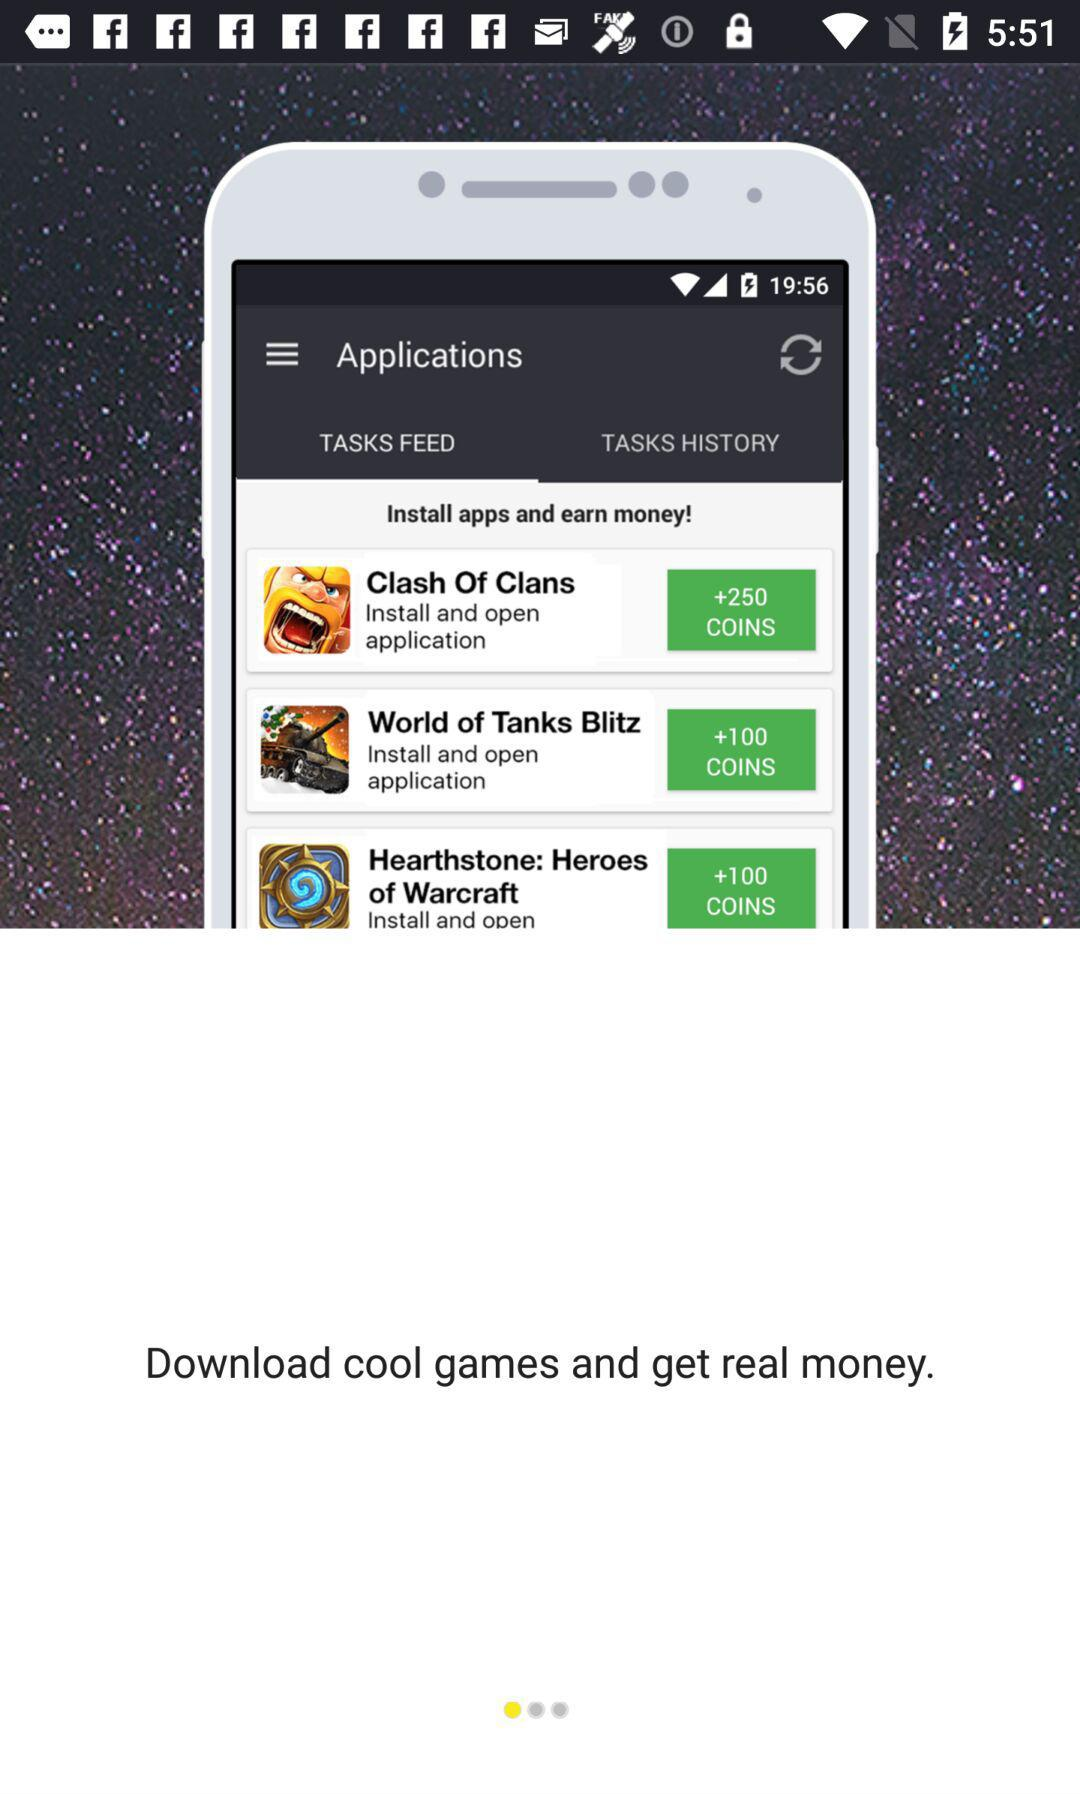Image: (1, 64, 1080, 930)
PageIndicator: (503, 1699, 571, 1720)
Text: (149, 1345, 934, 1388)
UpperTaskBar: (1, 1, 1080, 64)
